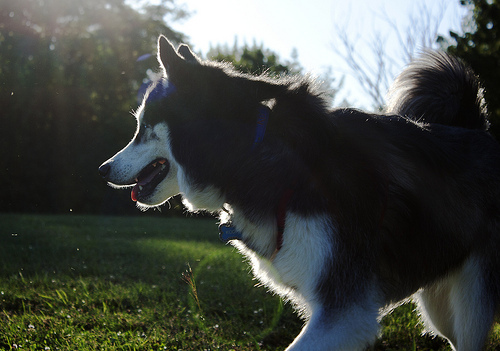dog: (100, 34, 499, 350)
